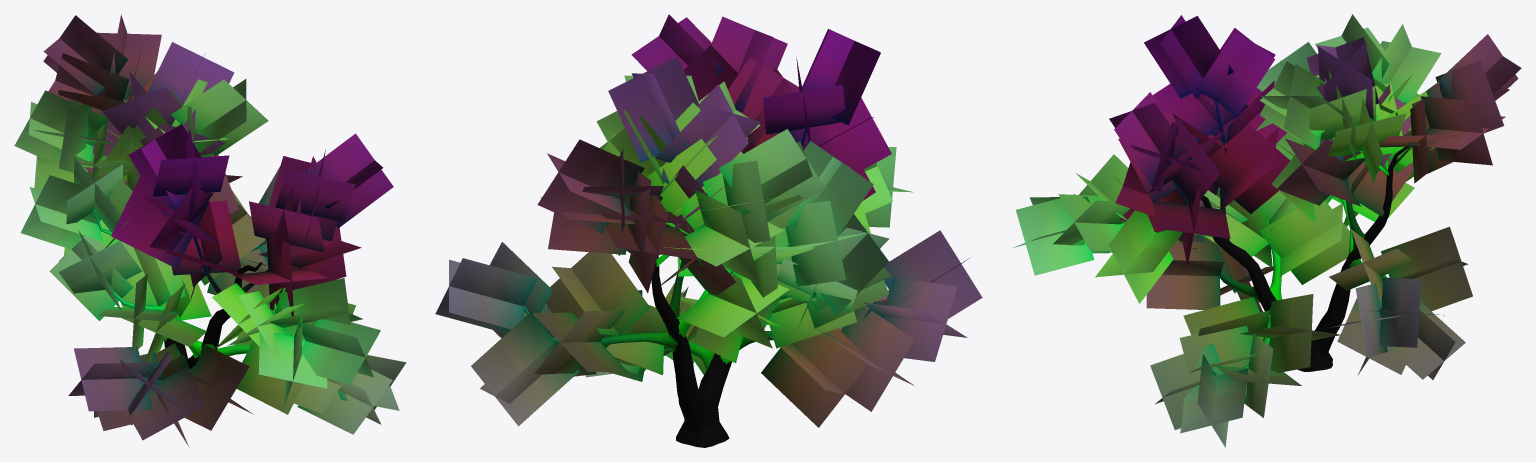
Rendered from URP_P11_Tree_8_LOD_1.fbx.
The picture shows the model from 3 angles, left to right: view 1: azimuth 30°, elevation 25°; view 2: azimuth 150°, elevation 25°; view 3: azimuth 270°, elevation 25°; orthographic projection. The views are drawn at different scales.
Visible parts, largest first — view 1: Tree_8_LOD_1; view 2: Tree_8_LOD_1; view 3: Tree_8_LOD_1.
Part boxes in pixels (bbox=[...]): Tree_8_LOD_1: bbox=[14, 14, 406, 446]; Tree_8_LOD_1: bbox=[435, 14, 982, 447]; Tree_8_LOD_1: bbox=[1013, 14, 1521, 447].
Bounding box in the file's own units: 587 × 567 × 762.
